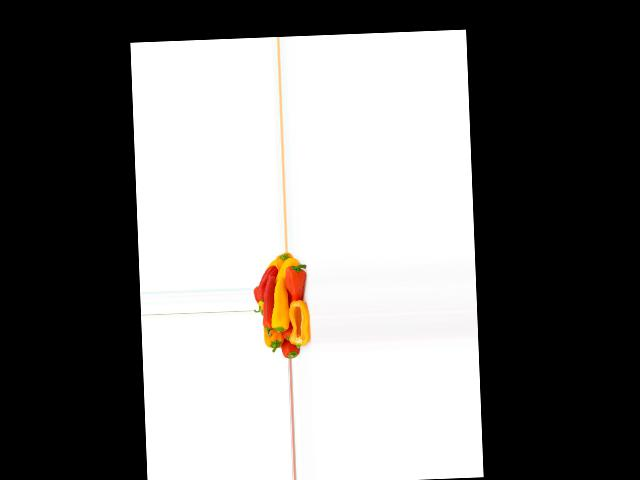bell_pepper: (277, 328, 299, 359)
